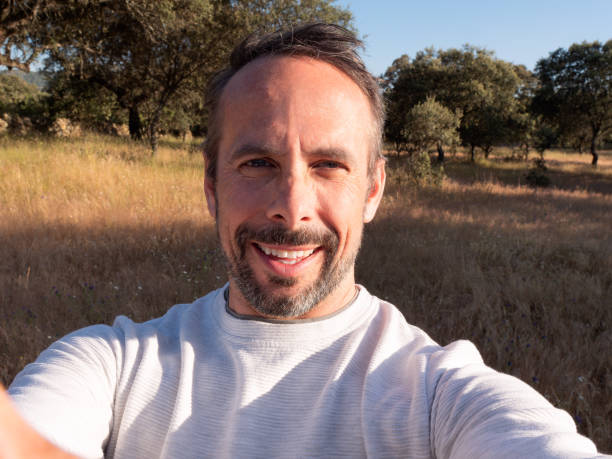Male: (69, 30, 432, 453)
